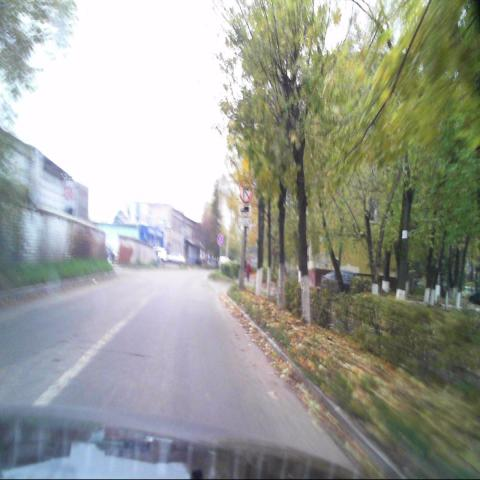3_18: (239, 180, 253, 203)
